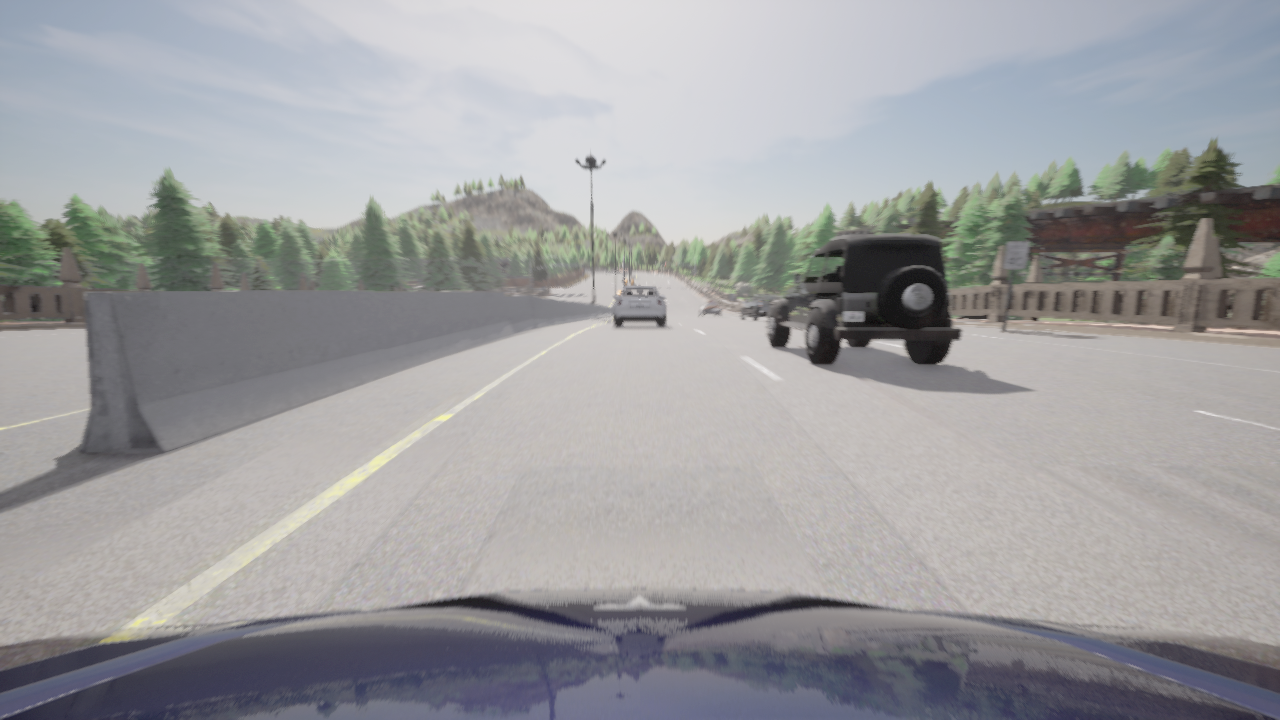cyclist: (0, 588, 1279, 719), (767, 234, 961, 364), (614, 286, 665, 326), (740, 294, 777, 321), (698, 301, 722, 316)
